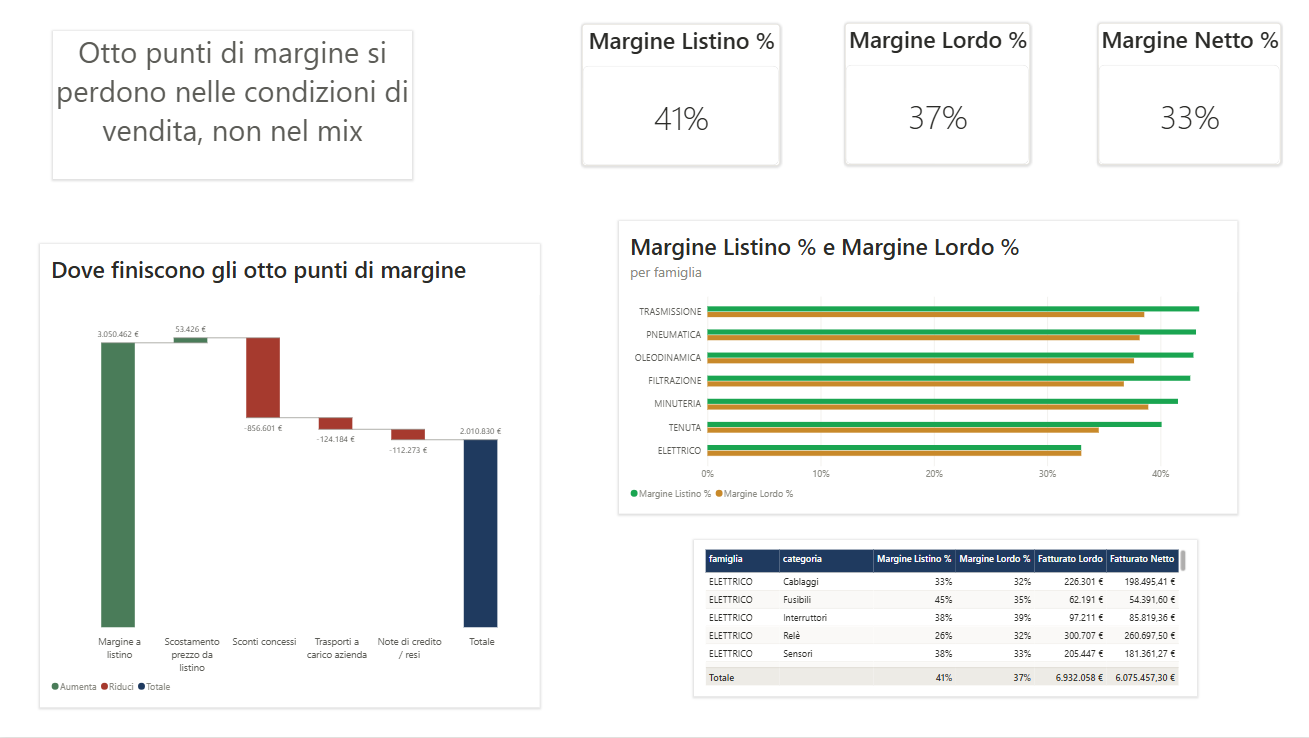

This screenshot's page, from the dashboard's own definition file:
{"tool":"powerbi","page":{"name":"Marginalità","canvas":[1920,1080],"ordinal":3},"visuals":[{"type":"textbox","box":[81.7,49.6,523.8,215.9],"z":0},{"type":"cardVisual","title":"Margine Lordo %","fields":{"Data":["_Misure.Margine Lordo %"]},"box":[1237.2,37.9,269.9,207.2],"z":1000},{"type":"cardVisual","title":"Margine Netto %","fields":{"Data":["_Misure.Margine Netto %"]},"box":[1606.3,37.9,267,207.2],"z":2000},{"type":"cardVisual","title":"Margine Listino %","fields":{"Data":["_Misure.Margine Listino %"]},"box":[853.5,39.4,288.9,207.2],"z":3000},{"type":"clusteredBarChart","fields":{"Category":["anagrafica_articoli.famiglia"],"Y":["_Misure.Margine Listino %","_Misure.Margine Lordo %"]},"box":[907.5,326.8,901.6,427.5],"z":4000},{"type":"tableEx","fields":{"Values":["anagrafica_articoli.famiglia","anagrafica_articoli.categoria","_Misure.Margine Listino %","_Misure.Margine Lordo %","_Misure.Fatturato Lordo","_Misure.Fatturato Netto"]},"box":[1016.9,792.2,733.9,227.6],"z":5000},{"type":"waterfallChart","title":"Dove finiscono gli otto punti di margine","fields":{"Category":["Ponte Margine.Voce"],"Y":["_Misure.Valore Ponte"]},"box":[62.7,360.4,729.5,675.5],"z":6000}]}

Visuals, with their boxes in screenshot pixels (x1, y1, x2, y2), scaled from the page's 1920x1080 canvas onto the 1309x738 screenshot:
textbox: l=56, t=34, r=413, b=181
"Margine Lordo %" cardVisual: l=843, t=26, r=1027, b=167
"Margine Netto %" cardVisual: l=1095, t=26, r=1277, b=167
"Margine Listino %" cardVisual: l=582, t=27, r=779, b=169
clusteredBarChart - anagrafica_articoli.famiglia x _Misure.Margine Listino %: l=619, t=223, r=1233, b=515
tableEx - anagrafica_articoli.famiglia x anagrafica_articoli.categoria: l=693, t=541, r=1194, b=697
"Dove finiscono gli otto punti di margine" waterfallChart: l=43, t=246, r=540, b=708
